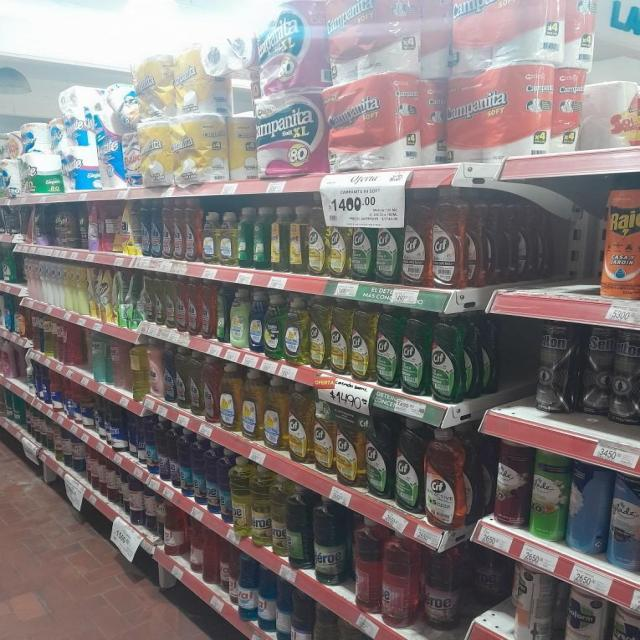ala_conc_amarillo: (189, 350, 203, 418), (176, 348, 189, 410)
ala_conc_azul: (150, 199, 162, 258)
ala_conc_rojo: (185, 200, 202, 262), (204, 355, 218, 424), (200, 277, 214, 339), (176, 276, 188, 334), (173, 200, 184, 260), (162, 200, 173, 260), (188, 278, 199, 336)
cif_conc_bot_amarilla: (336, 401, 363, 486), (287, 381, 312, 464), (350, 302, 375, 381), (314, 390, 334, 472), (330, 298, 349, 375), (307, 206, 327, 276), (328, 213, 349, 279)
cif_conc_botella_roja: (424, 428, 472, 529), (431, 186, 467, 290), (402, 190, 430, 287)
cif_conc_botella_verde: (394, 419, 423, 513), (401, 307, 430, 396), (376, 304, 400, 388), (376, 216, 400, 284), (350, 216, 374, 281)
magistral_con_amarillo: (264, 375, 286, 451), (285, 296, 308, 365), (242, 369, 263, 442), (220, 362, 241, 433), (310, 296, 328, 369), (220, 210, 237, 266), (203, 210, 219, 265)
